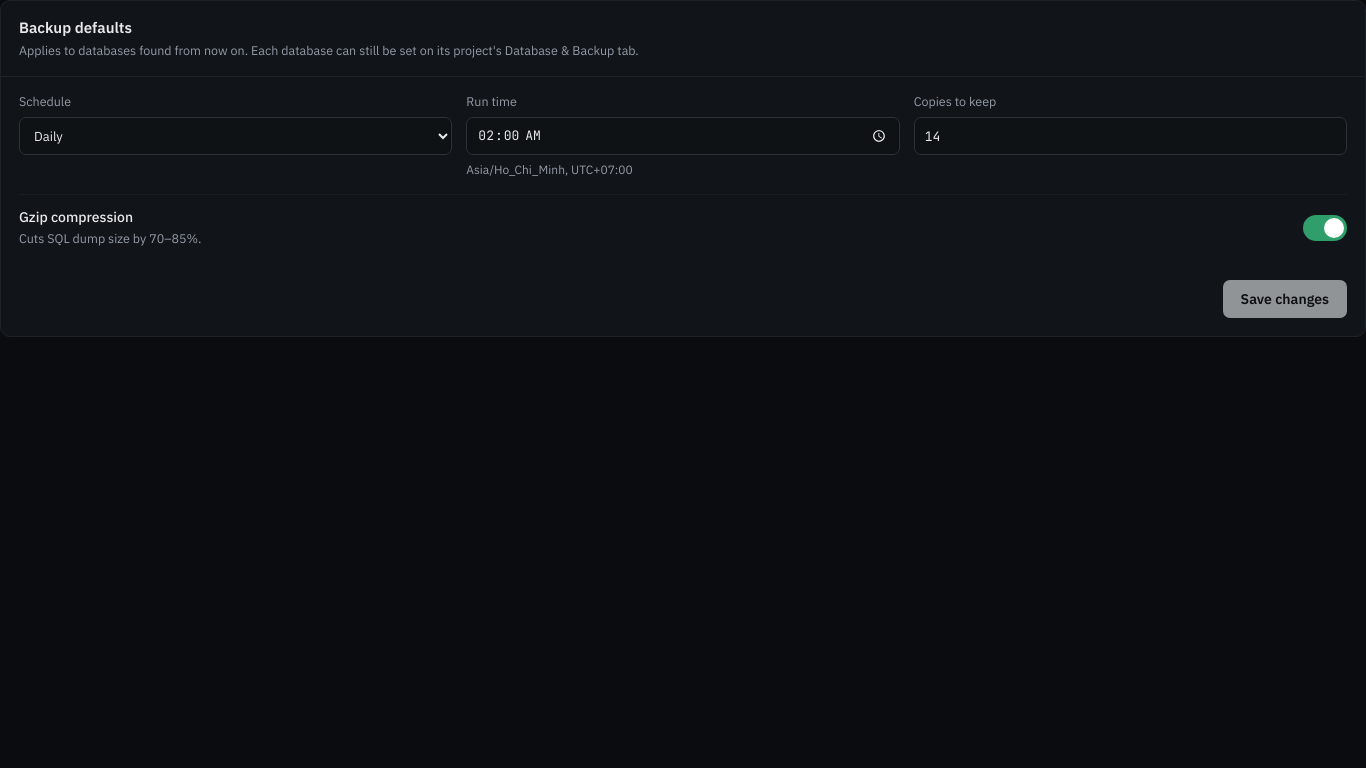
Test: Backup defaults card › Save posts the fields, toasts and waits for the next change
Select "Weekly" in the dropdown labelled "Schedule": {"x": 236, "y": 136} 19,117 -> 452,155
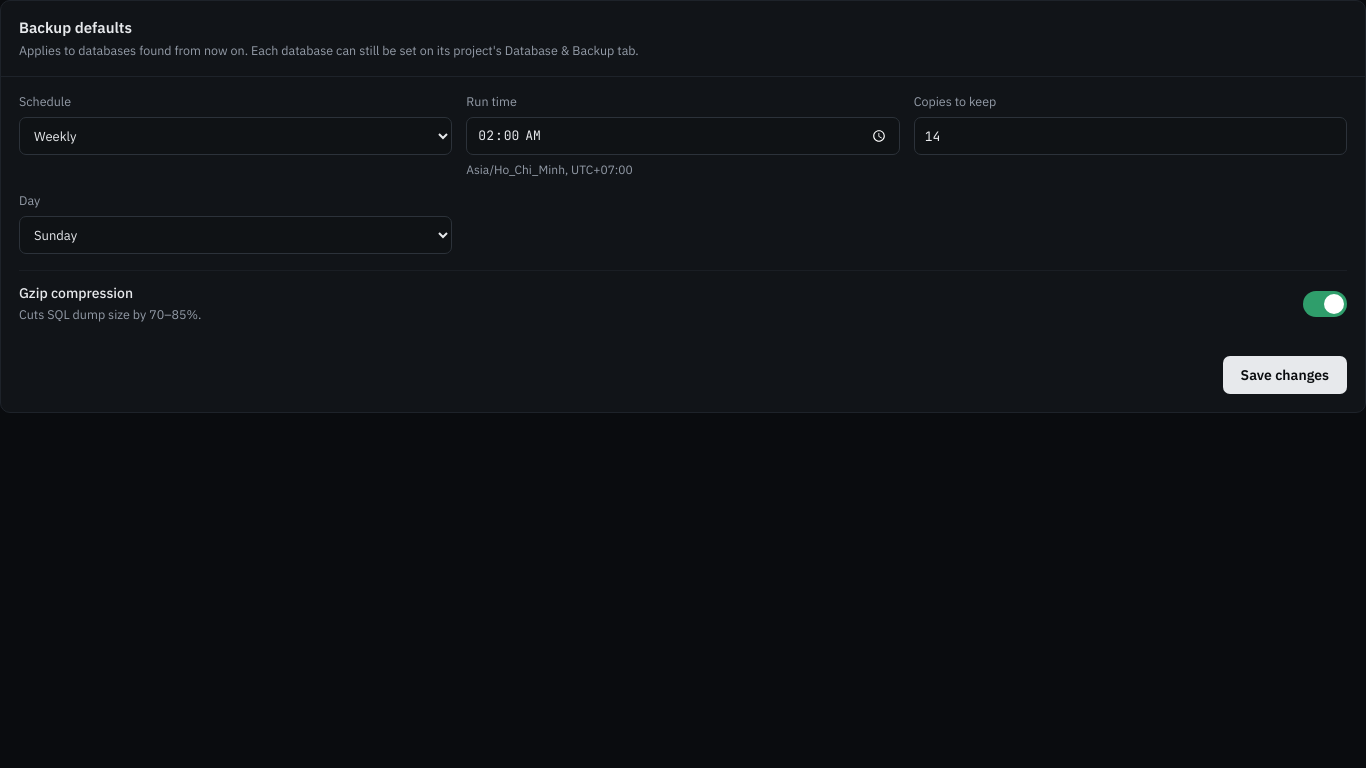
Select "Wednesday" in the dropdown labelled "Day": {"x": 236, "y": 235} 19,216 -> 452,254
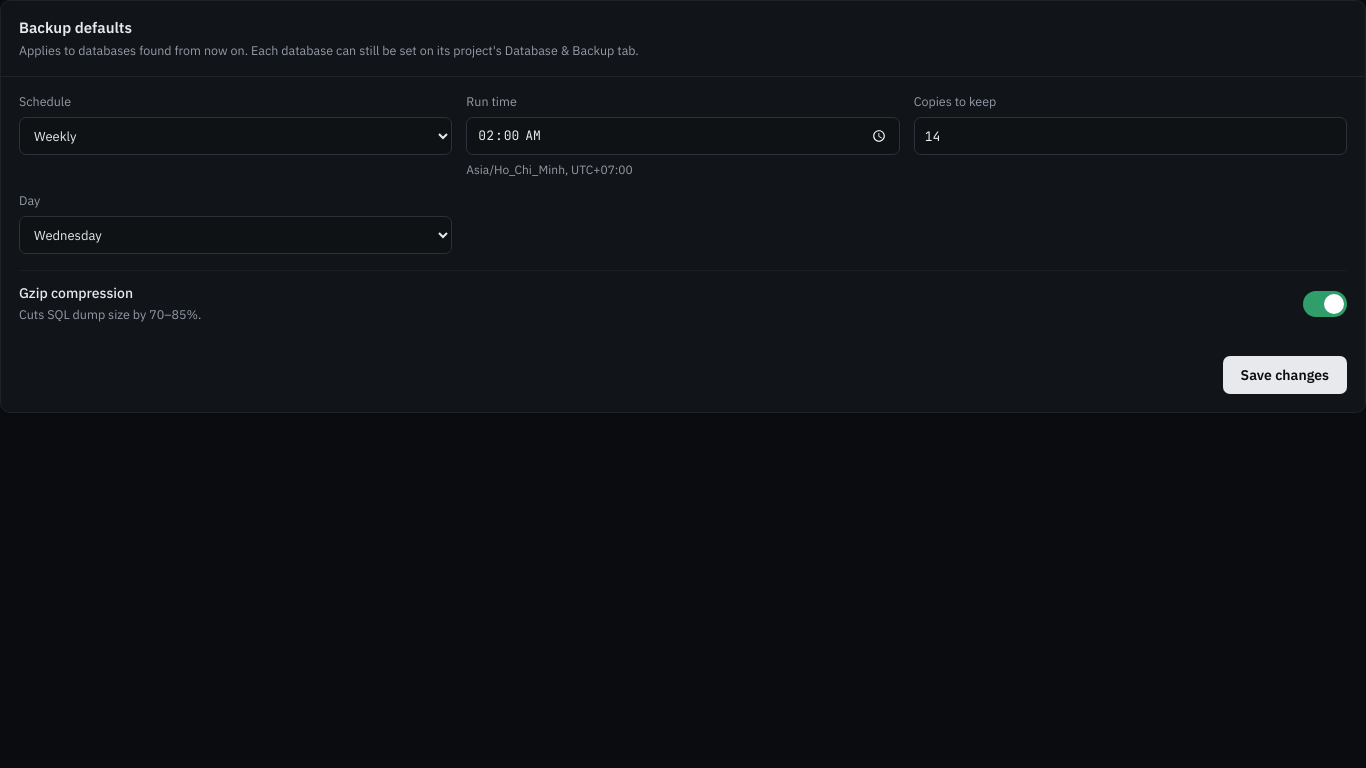
Replace the text in the time field labelled "Run time" with "03:30": {"x": 683, "y": 136} 466,117 -> 900,155
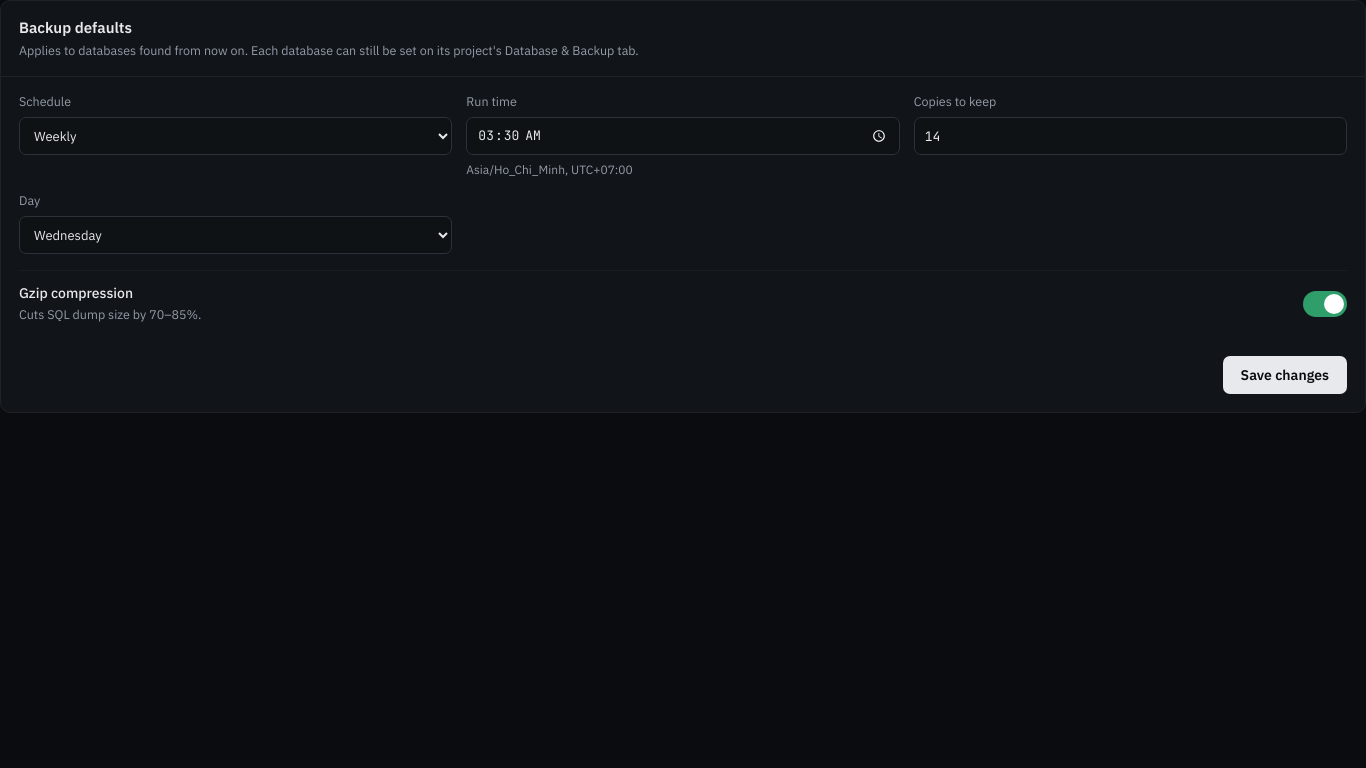
Replace the text in the number field labelled "Copies to keep" with "7": {"x": 1130, "y": 136} 914,117 -> 1347,155
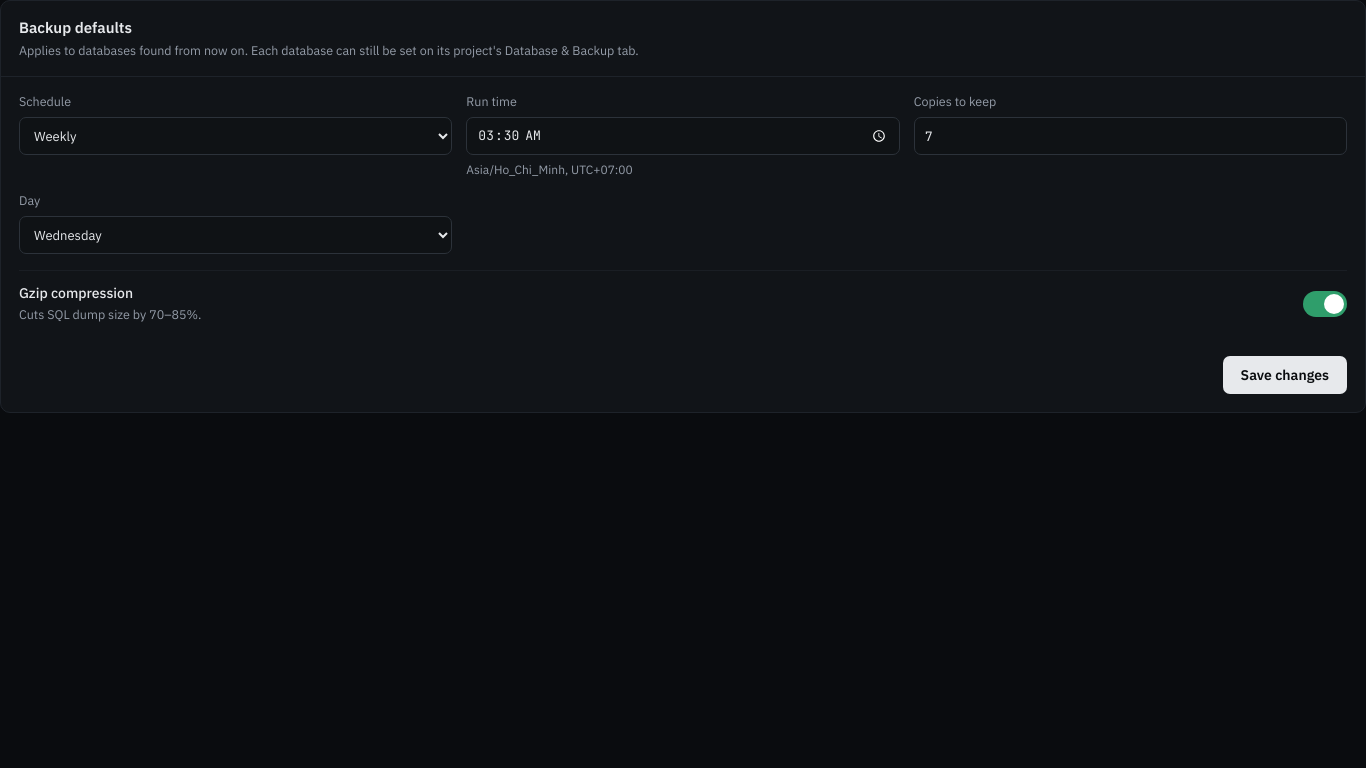
Click the switch labelled "Gzip compression": {"x": 76, "y": 293} 19,284 -> 133,302
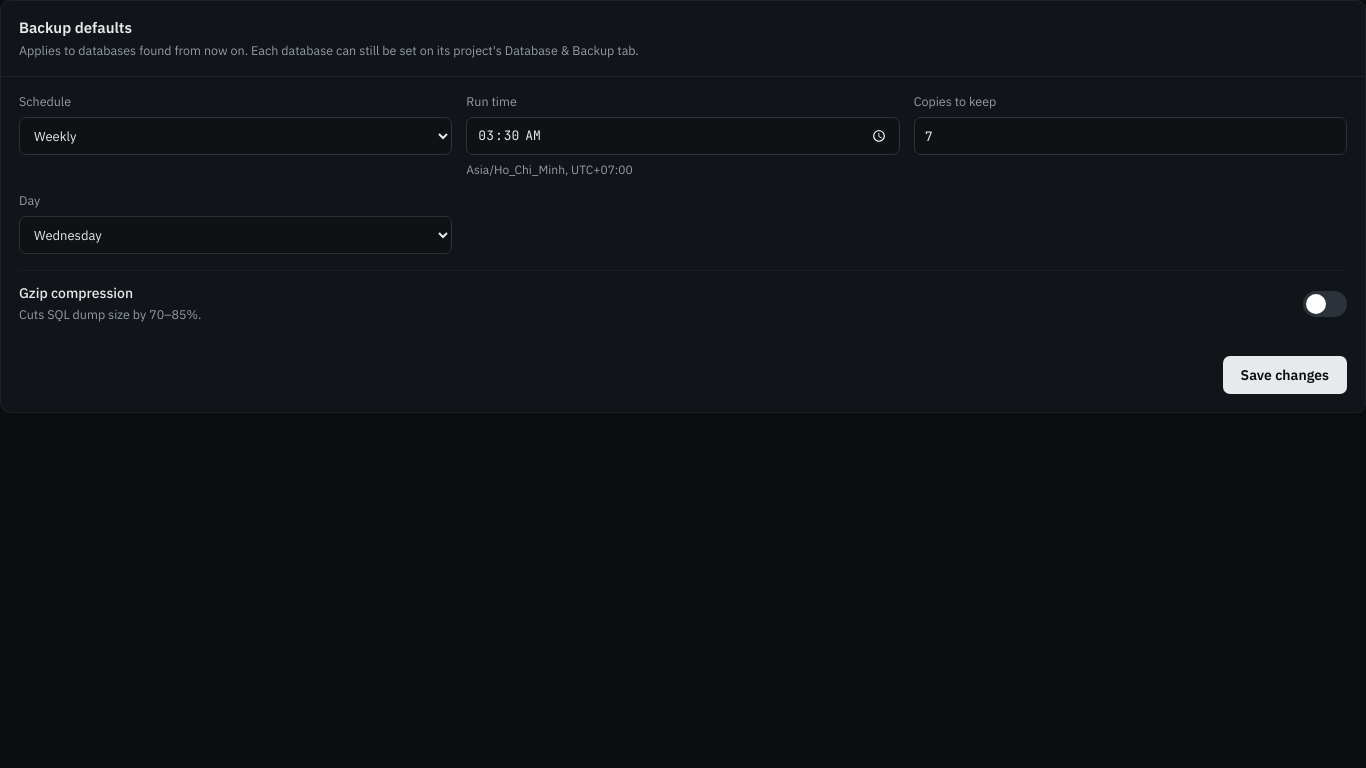
Now the button "Save changes" is enabled
Click the button "Save changes": {"x": 1285, "y": 375} 1223,356 -> 1347,394
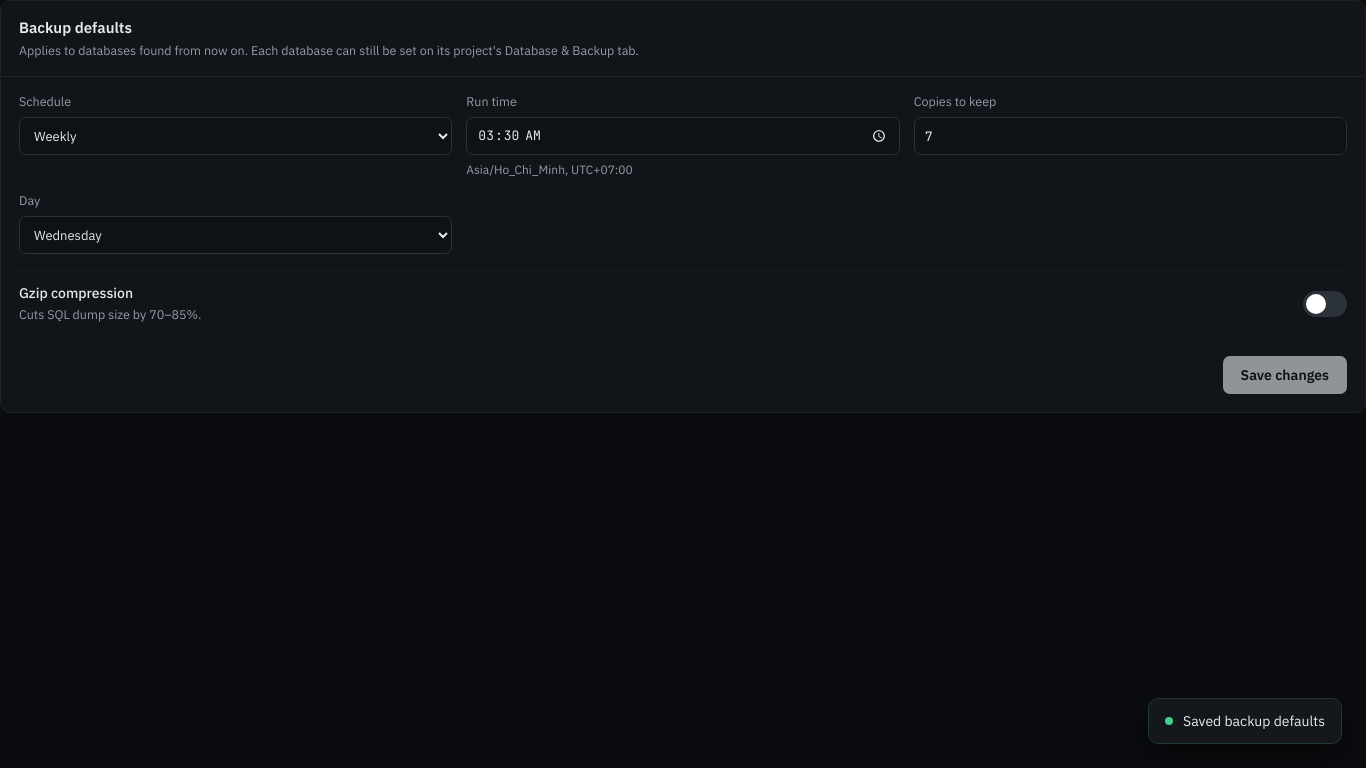
Now the text "Saved backup defaults" is shown, box 1183,711 -> 1325,731
Now the button "Save changes" is disabled, box 1223,356 -> 1347,394
